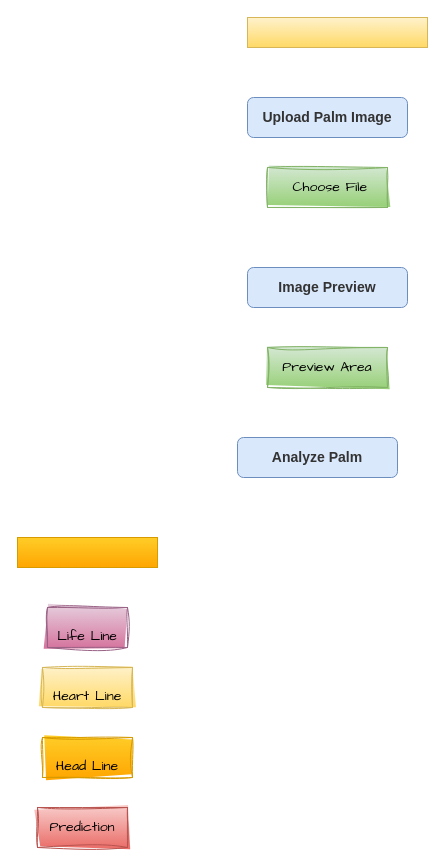
The diagram is 445 pixels wide and 865 high, and some of its shapes have lost their labels. The shapes that lost their labels are listed below. From the top down, each one's centre as x and y in pixels, then its label:
At (x=337, y=32): "Palmistry Analysis".
At (x=87, y=552): "Result Section".
